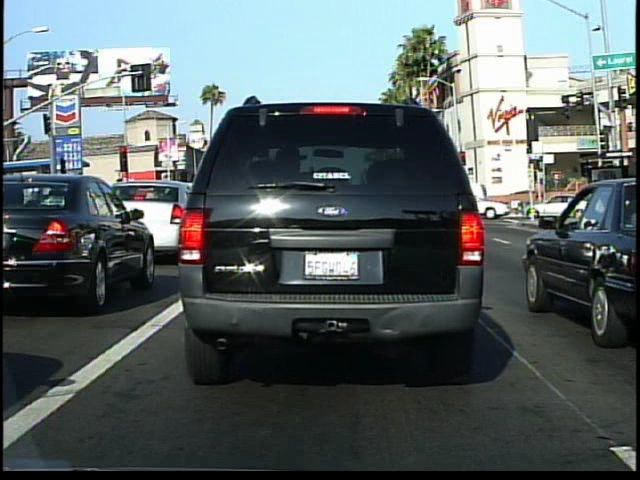person: (583, 173, 608, 230)
